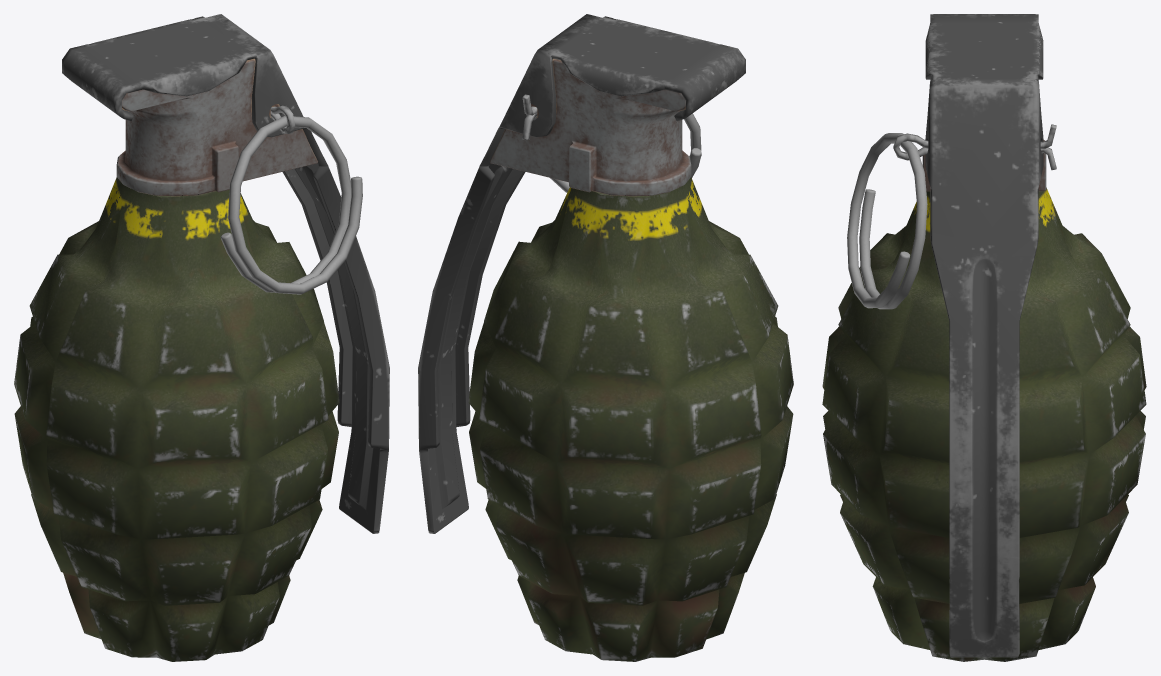
The model's file is grenade.glb.
The picture shows the model from 3 angles, left to right: view 1: azimuth 30°, elevation 25°; view 2: azimuth 150°, elevation 25°; view 3: azimuth 270°, elevation 25°; orthographic projection.
Visible parts, largest first — view 1: GrenadeBody_4, GrenadeSwitch_2, GrenadeTop_3, GrenadeRing_0; view 2: GrenadeBody_4, GrenadeSwitch_2, GrenadeTop_3, GrenadeRing_0; view 3: GrenadeBody_4, GrenadeSwitch_2, GrenadeRing_0, GrenadePin_1.
Boxes of the visible parts, x1,y1,x2,y2 form: GrenadeBody_4: (14,177,339,661); GrenadeSwitch_2: (62,14,389,533); GrenadeTop_3: (116,58,317,196); GrenadeRing_0: (220,116,362,294); GrenadeBody_4: (468,177,793,661); GrenadeSwitch_2: (418,14,745,533); GrenadeTop_3: (490,58,691,196); GrenadeRing_0: (550,113,701,192); GrenadeBody_4: (822,187,1146,661); GrenadeSwitch_2: (925,14,1043,657); GrenadeRing_0: (847,133,927,309); GrenadePin_1: (893,124,1056,170).
Size of the model in its own units: 0.0855 by 0.1401 by 0.0716.
Materials: 1 (1 with a texture image).
